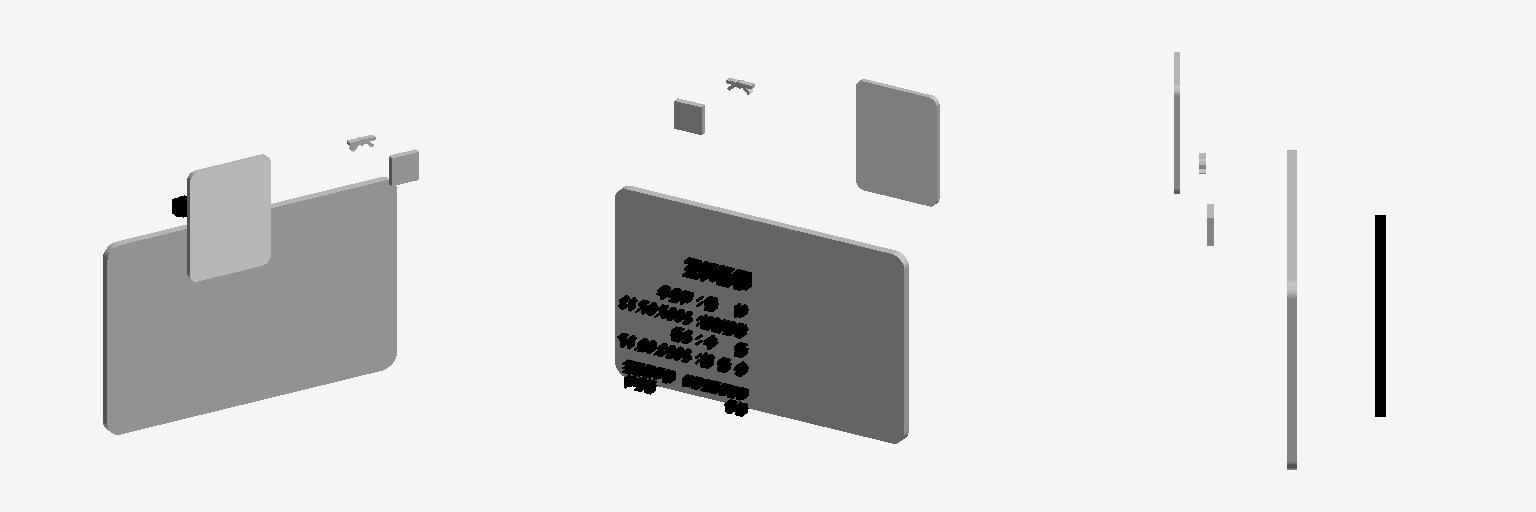
Rendered from card_02.obj.
3 views of the same model, side by side, from view 1: azimuth 30°, elevation 25°; view 2: azimuth 150°, elevation 25°; view 3: azimuth 270°, elevation 25° (orthographic).
Visible parts, largest first — view 1: Plane, Plane.001, Cube; view 2: Plane, Plane.001, Text.014, Cube; view 3: Plane, Text.014, Plane.001.
Boxes of the visible parts, x1,y1,x2,y2 form: Plane: [103, 177, 396, 434]; Plane.001: [187, 154, 270, 281]; Cube: [389, 149, 418, 185]; Plane: [615, 186, 908, 443]; Plane.001: [856, 79, 939, 206]; Text.014: [617, 257, 751, 416]; Cube: [674, 98, 704, 134]; Plane: [1287, 150, 1296, 469]; Text.014: [1375, 215, 1385, 416]; Plane.001: [1174, 52, 1179, 193].
Size of the model in its own units: 4.98 by 4.9 by 3.15.